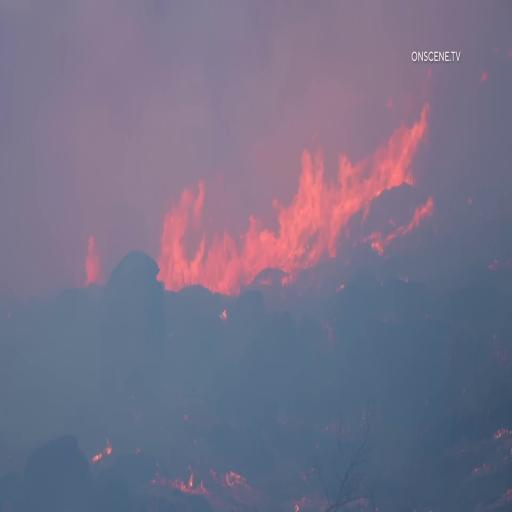fire: (244, 152, 346, 281), (332, 116, 426, 218), (164, 196, 249, 291)
